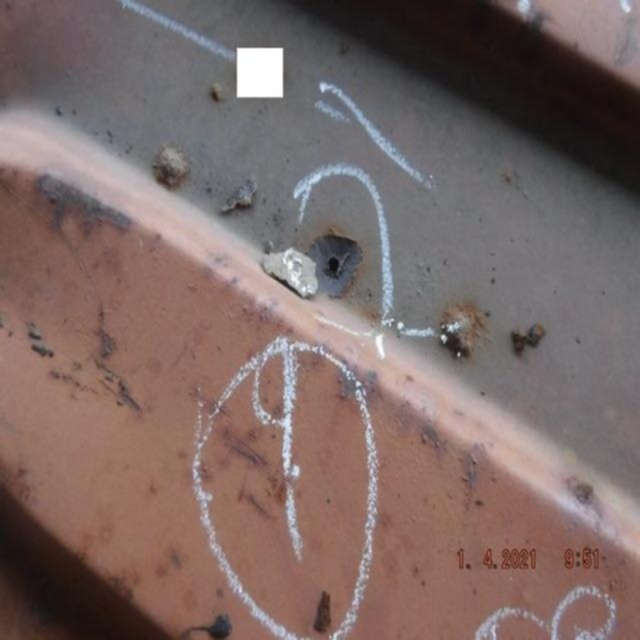Hole: (325, 252, 345, 277)
Rusty: (305, 230, 366, 304), (439, 298, 491, 364), (153, 141, 195, 197)
